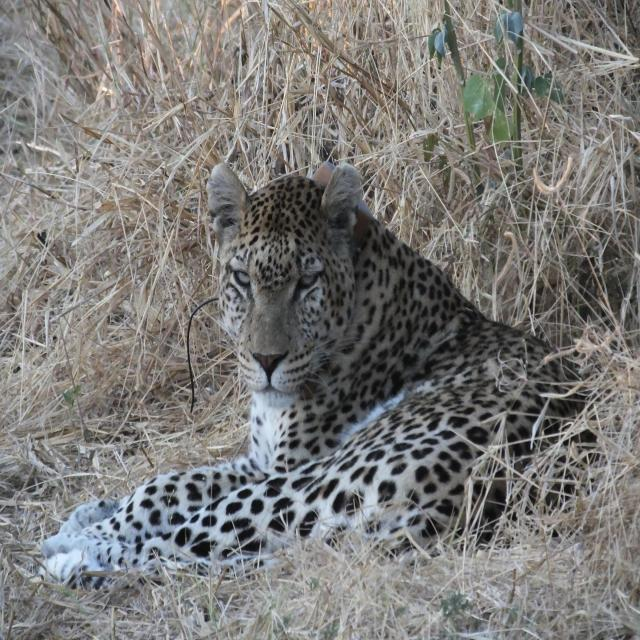Leopard: (43, 146, 620, 586)
